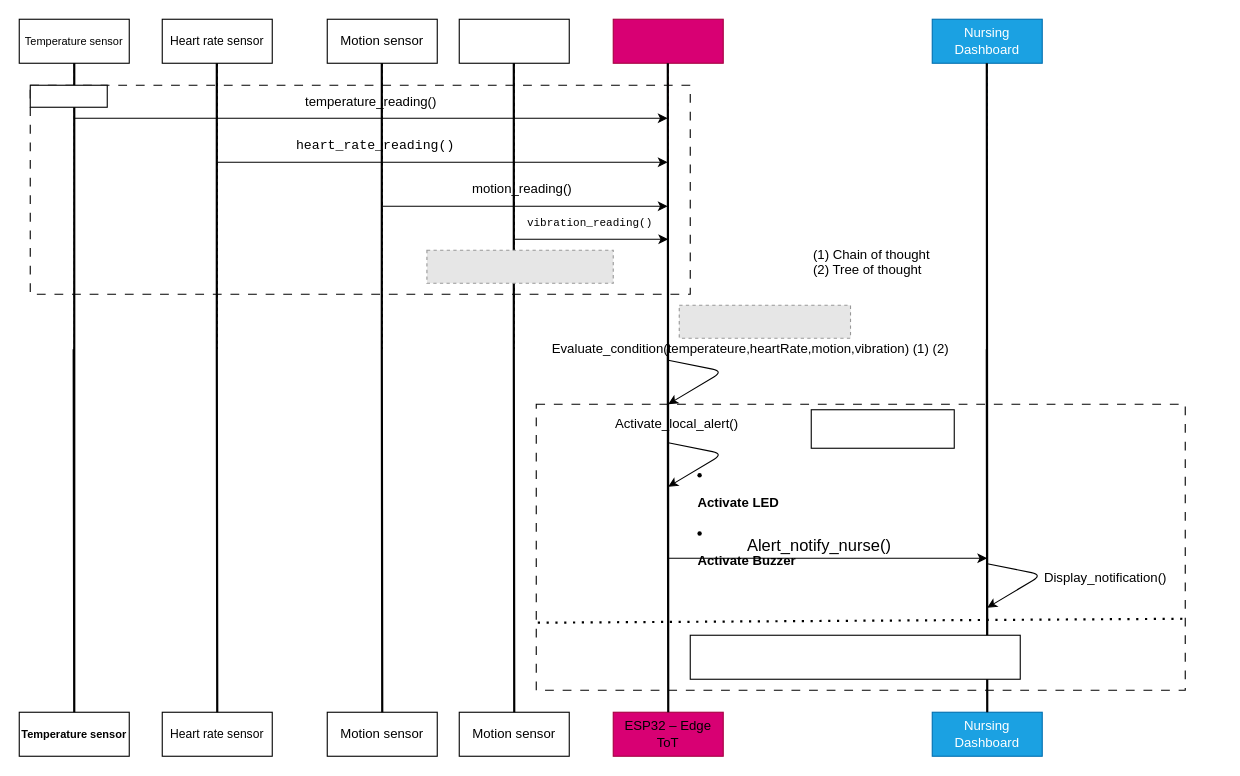
This 1240x776 diagram has some shape labels left out. Grey dashed boxes stand in for pictures. Here are the shapes that lost their labels. From the top down, the box of each, then its label:
(29, 84, 107, 107): LOOP
(458, 18, 569, 349): Vibration sensor
(612, 18, 723, 349): ESP32 – Edge Device
(810, 409, 954, 448): Patient slow fall
(689, 634, 1020, 679): No slow fall detected - Contiue Monitoring
